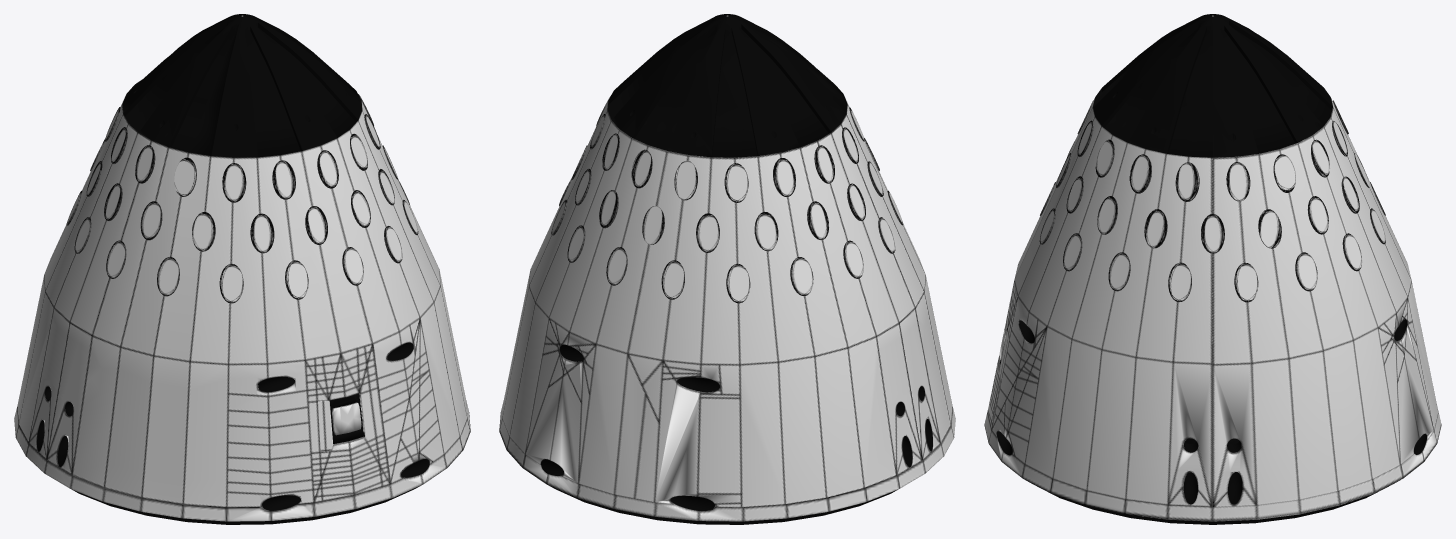
File: coloniallander4.fbx
3 renders of one model, left to right at view 1: azimuth 30°, elevation 25°; view 2: azimuth 150°, elevation 25°; view 3: azimuth 270°, elevation 25°, orthographic.
Visible parts, largest first — view 1: Cone.002, Cone.000; view 2: Cone.002, Cone.000; view 3: Cone.002, Cone.000.
Part boxes in pixels (box(x1,y1,x2,y2)): Cone.002: box(14, 14, 470, 521); Cone.000: box(72, 485, 421, 524); Cone.002: box(499, 14, 955, 521); Cone.000: box(548, 485, 897, 524); Cone.002: box(984, 14, 1441, 521); Cone.000: box(1026, 438, 1399, 524).
Bounding box in the file's own units: 411 × 422 × 411.
1 material, 1 textured.
